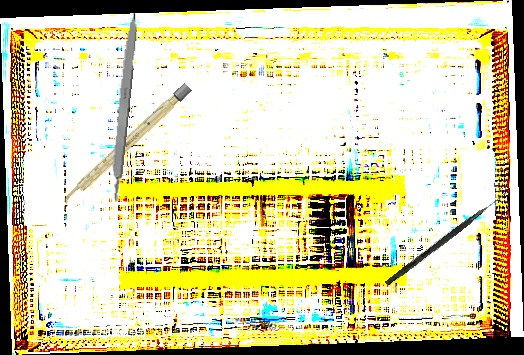Hook Surgical: (384, 189, 508, 288)
Scalpel Handle: (60, 82, 193, 207), (106, 11, 140, 204)
